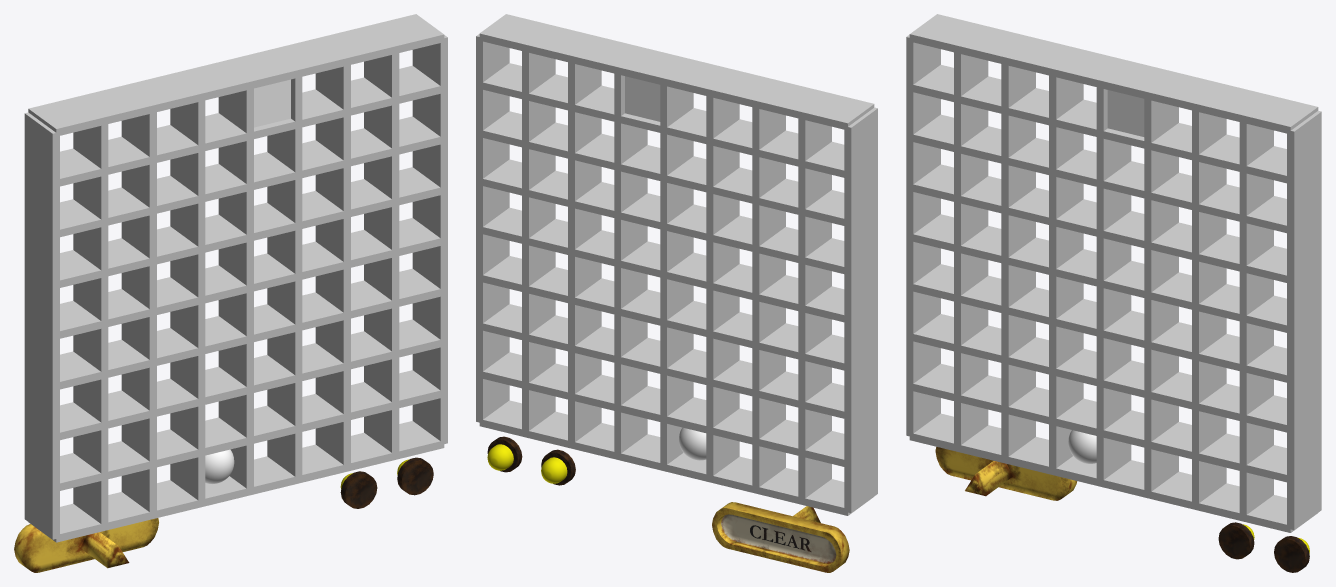
The model's file is Mazes_FBX.fbx.
3 views of the same model, side by side, from view 1: azimuth 30°, elevation 25°; view 2: azimuth 150°, elevation 25°; view 3: azimuth 330°, elevation 25° (orthographic). The views are drawn at different scales.
Visible parts, largest first — view 1: Wall(Clone) (×144), SolveModel, Win, P1 ExamineLight, P2 ExamineLight, Ball; view 2: Wall(Clone) (×143), SolveModel, Win, P2 ExamineLight, P1 ExamineLight, Ball; view 3: Wall(Clone) (×144), SolveModel, Win, P1 ExamineLight, P2 ExamineLight, Ball.
Boxes of the visible parts, x1,y1,x2,y2 form: Wall(Clone) (×144): (24, 14, 447, 542); SolveModel: (14, 518, 158, 572); Win: (254, 79, 290, 127); P1 ExamineLight: (397, 457, 433, 495); P2 ExamineLight: (340, 471, 377, 508); Ball: (205, 449, 234, 484); Wall(Clone) (×143): (476, 14, 877, 515); SolveModel: (712, 502, 849, 572); Win: (625, 76, 660, 121); P2 ExamineLight: (541, 449, 575, 485); P1 ExamineLight: (487, 436, 522, 472); Ball: (679, 427, 706, 460); Wall(Clone) (×144): (906, 14, 1321, 532); SolveModel: (935, 447, 1076, 500); Win: (1107, 90, 1144, 136); P1 ExamineLight: (1274, 536, 1309, 572); P2 ExamineLight: (1218, 522, 1254, 559); Ball: (1068, 430, 1096, 463).
Size of the model in its own units: 2.04 by 2.31 by 0.3434.
